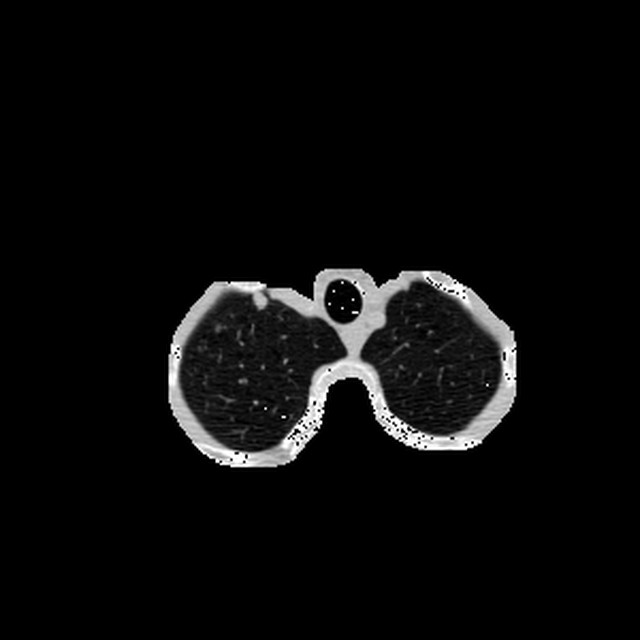PN: (250, 292, 267, 309)
